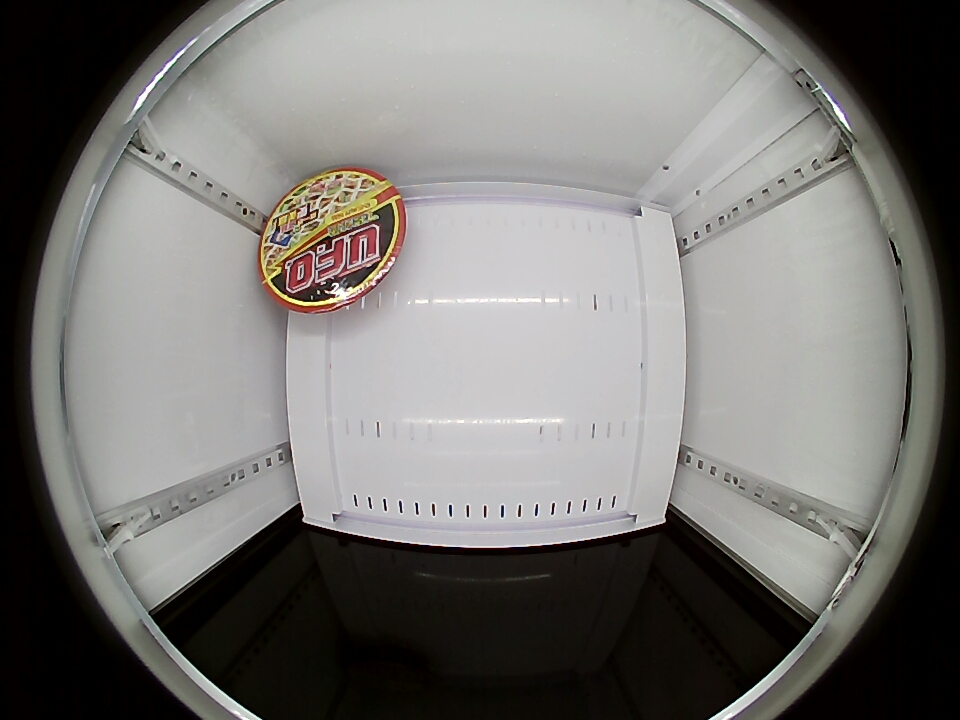ufo2: (259, 168, 406, 314)
